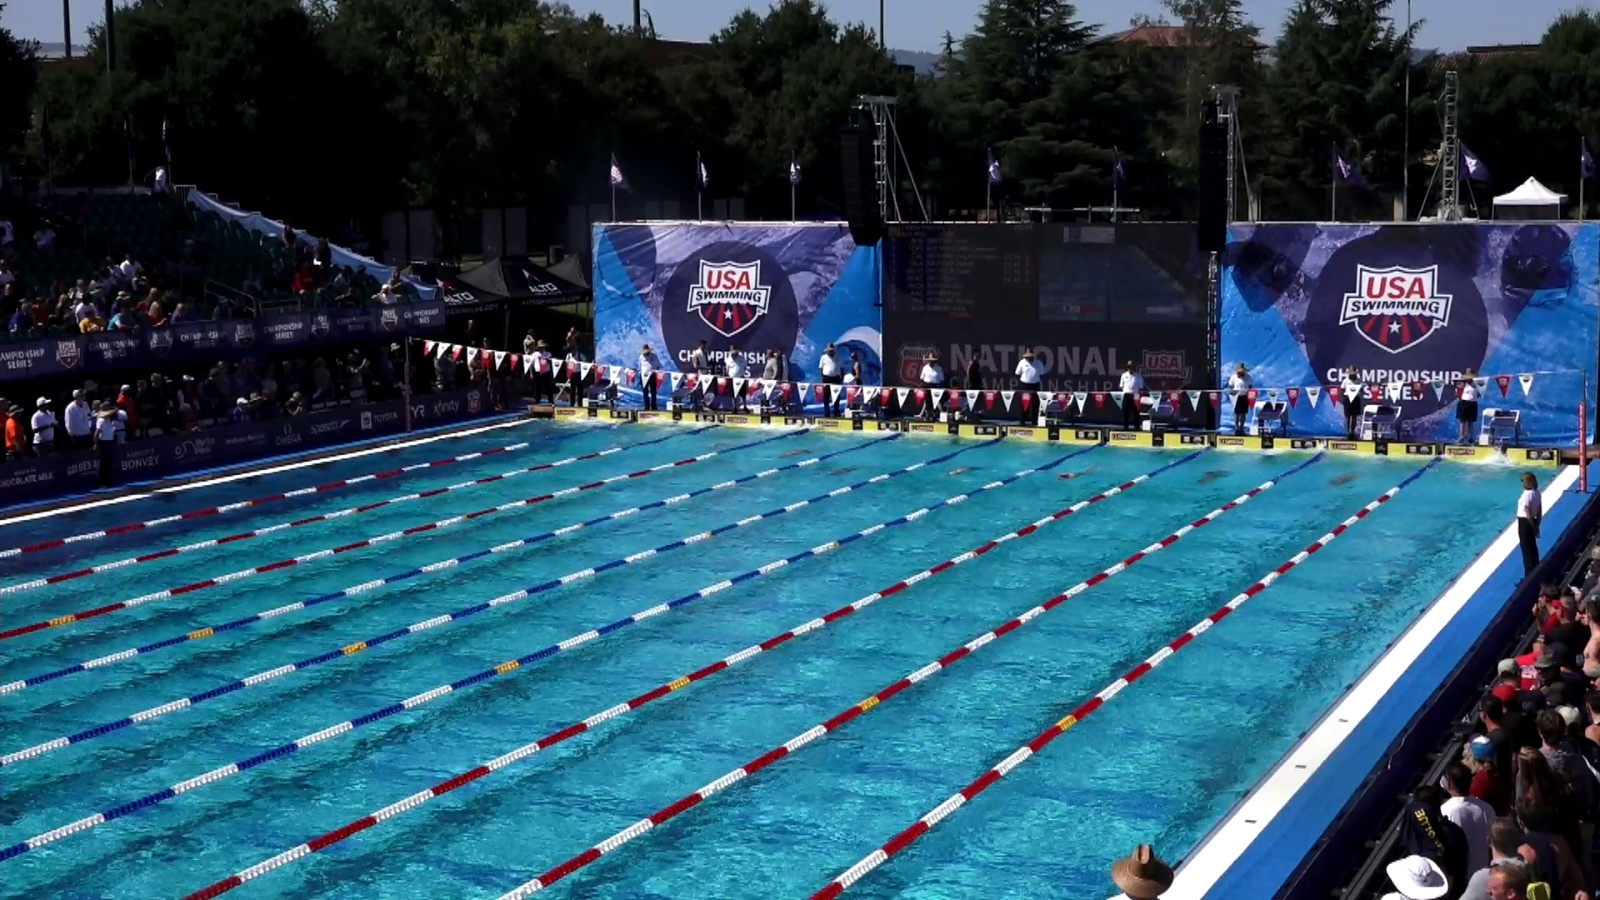swimmerw: (1460, 459, 1508, 484), (1320, 466, 1360, 493), (1054, 462, 1105, 480), (1192, 465, 1237, 485), (945, 462, 990, 479), (774, 446, 820, 459), (823, 462, 865, 476), (599, 438, 651, 449), (701, 440, 738, 454)
